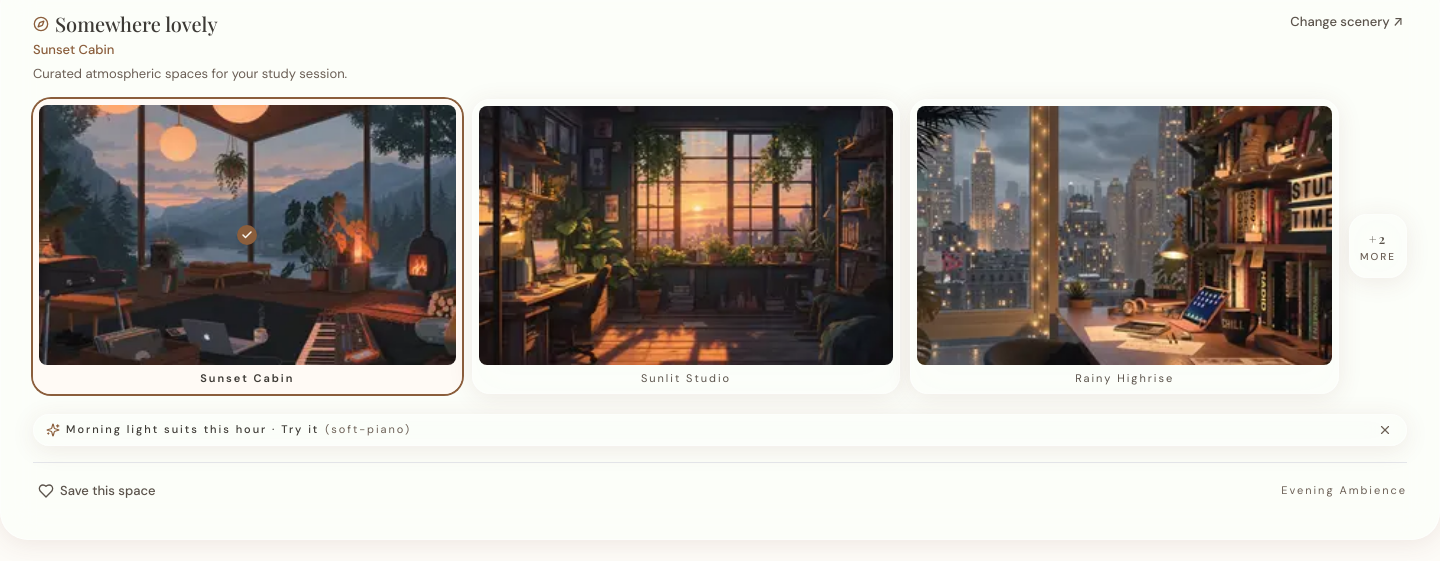
SceneryCard › toggles favorite on the active scene
Later steps or results of the test are not shown.
Click the button "Save this space" at x=97, y=490, box [25,474,169,506]
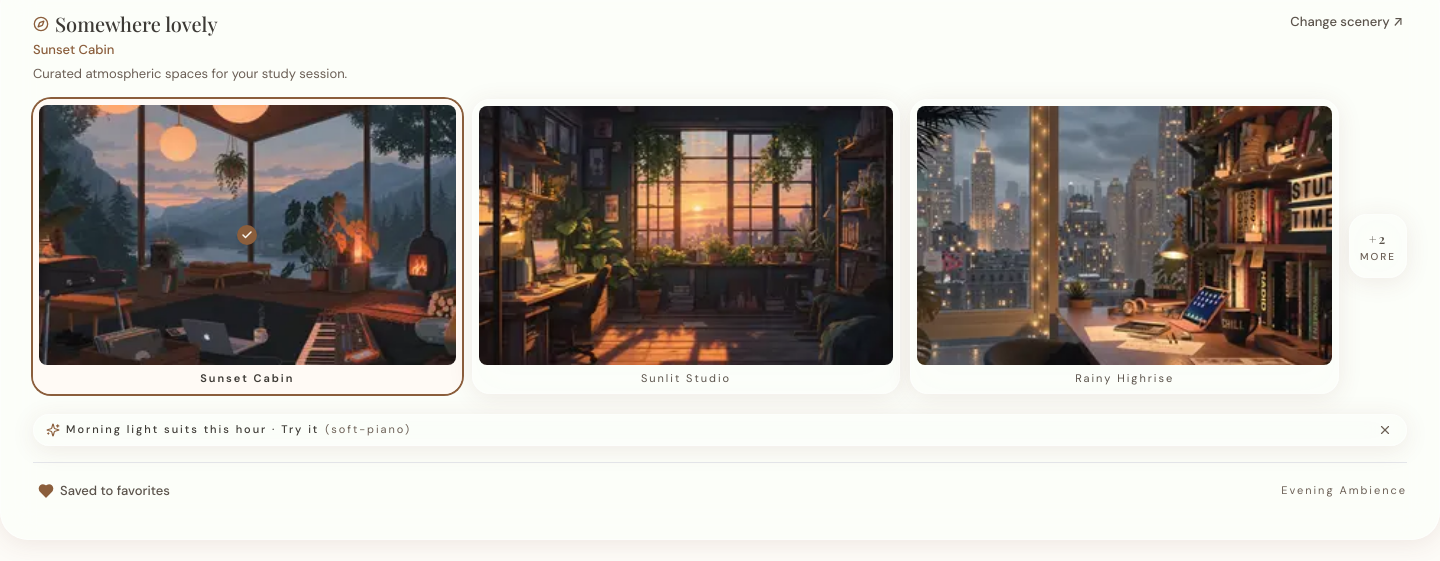
Now the button "Saved to favorites" is shown, box [25,474,183,506]
